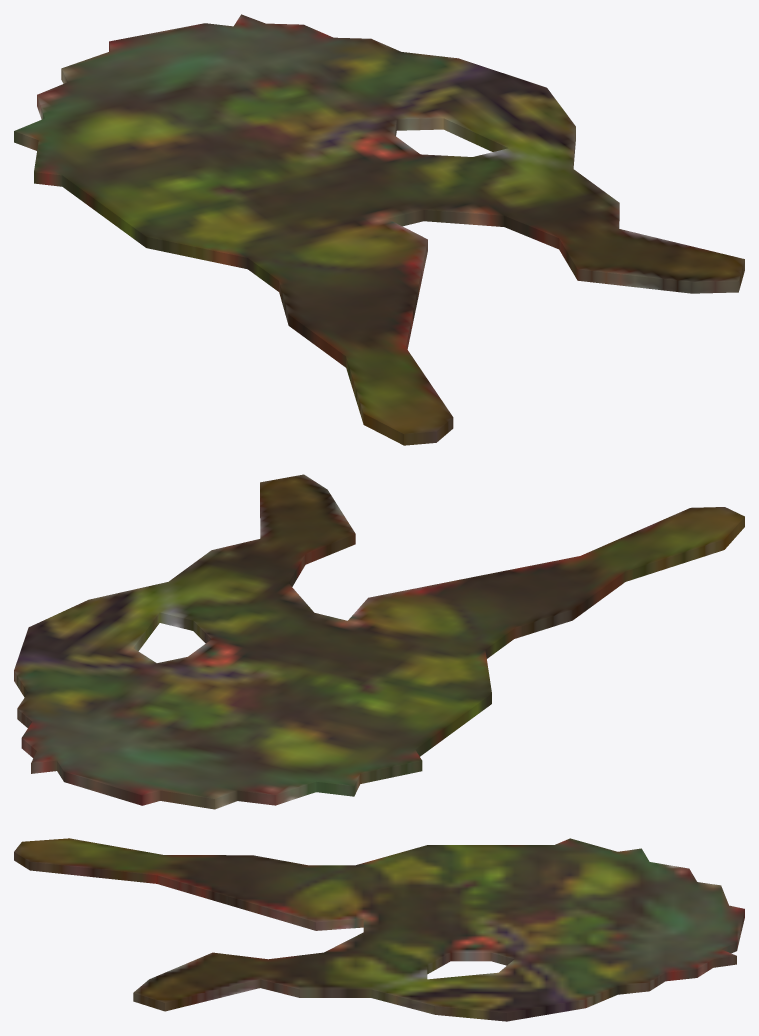
Rendered from QuaiMa.glb.
3 renders of one model, top to bottom at view 1: azimuth 30°, elevation 25°; view 2: azimuth 150°, elevation 25°; view 3: azimuth 270°, elevation 25°, orthographic. The views are drawn at different scales.
Visible parts, largest first — view 1: QuaiMa; view 2: QuaiMa; view 3: QuaiMa.
Part boxes in pixels (<box>): QuaiMa: <box>14,14,744,445</box>; QuaiMa: <box>14,474,744,809</box>; QuaiMa: <box>14,838,744,1021</box>.
Size of the model in its own units: 0.217 by 0.005 by 0.3839.
1 material, 1 textured.
